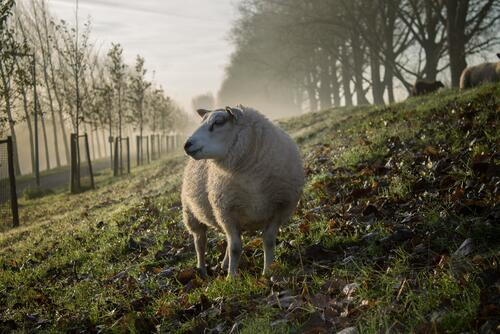sheep: (180, 104, 304, 281)
